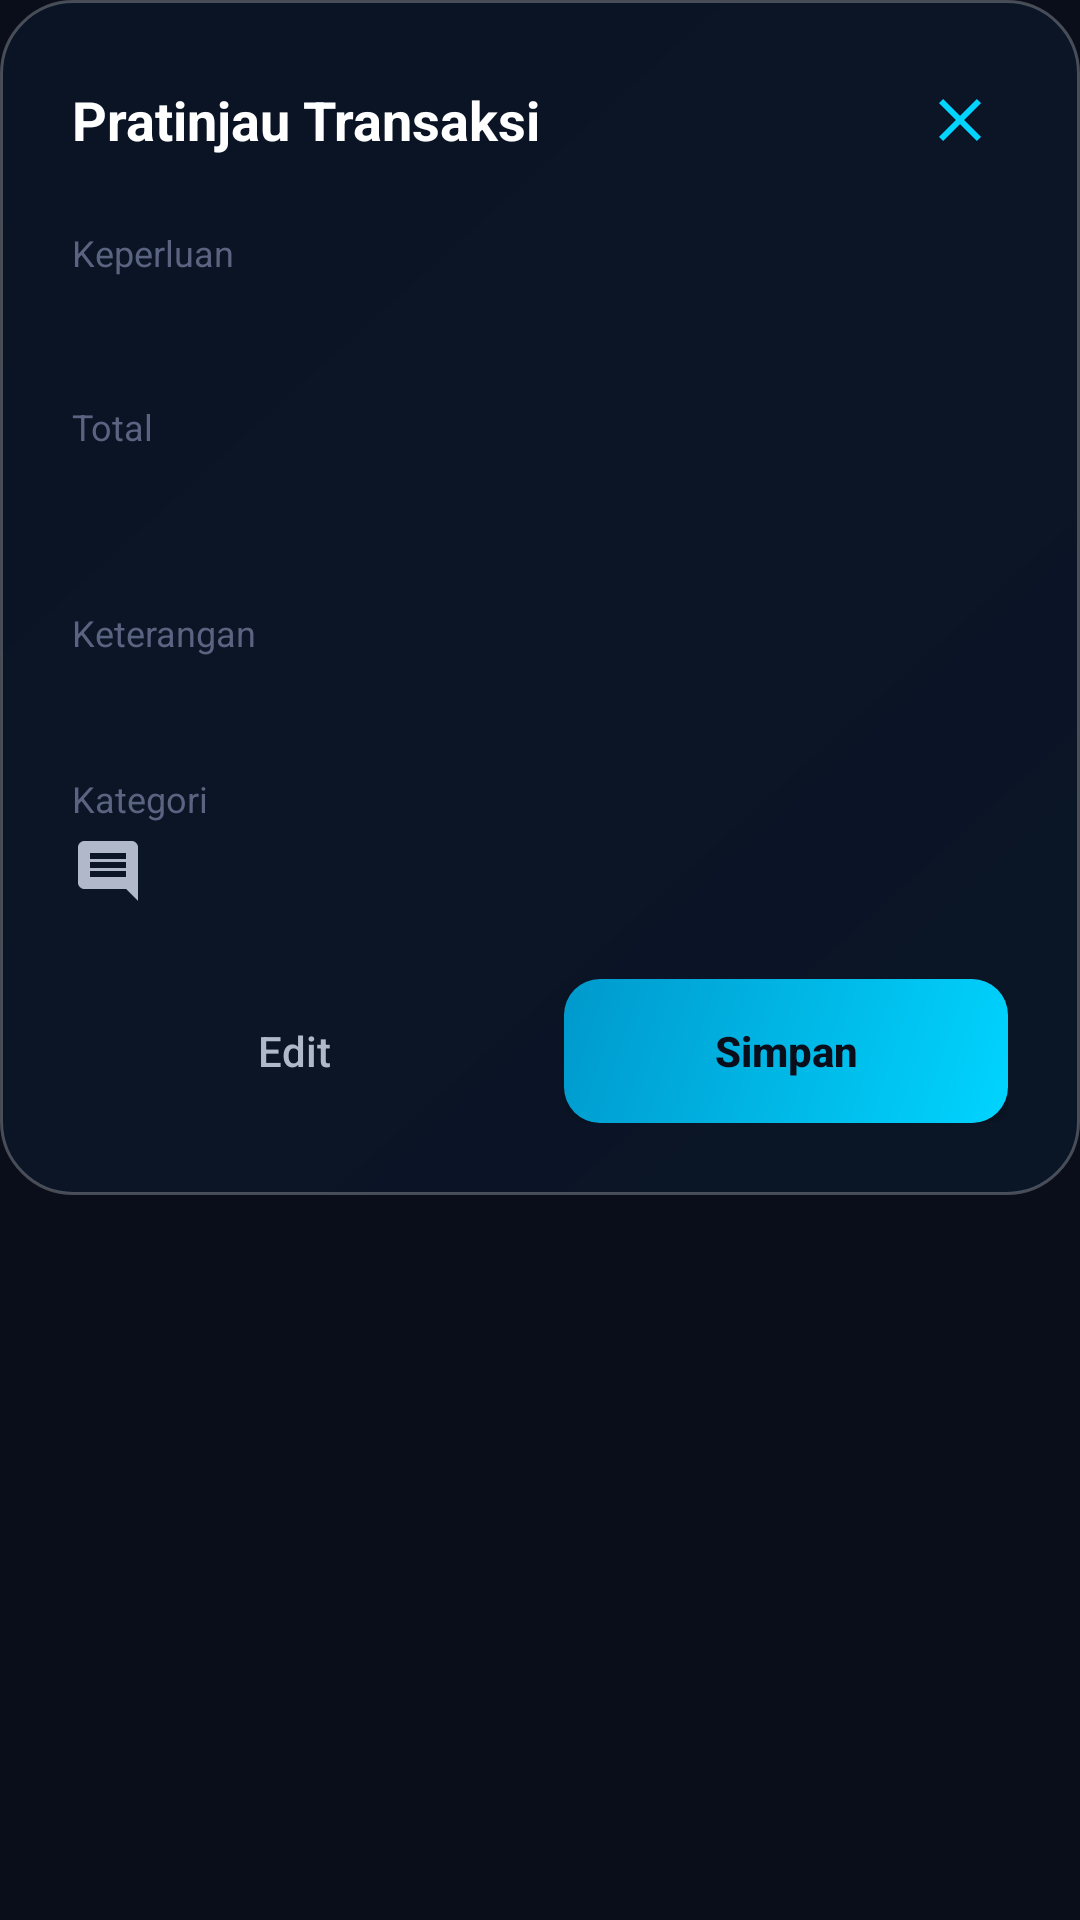

Point at icon controls on the screen. Image size 1080 × 1920, points as (x=x, y=y).
Tutup: (x=960, y=120)
